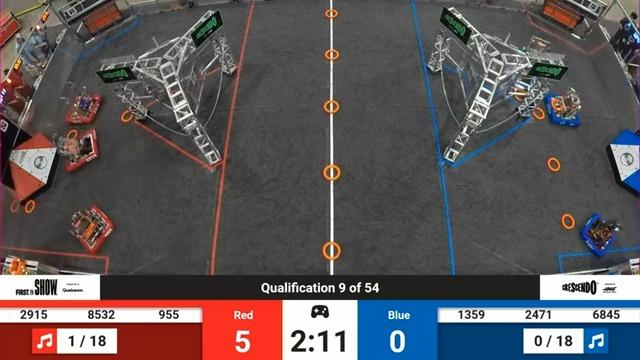robot: (49, 126, 109, 173), (67, 200, 115, 258), (56, 78, 104, 131), (578, 204, 621, 263), (547, 78, 584, 135), (514, 31, 559, 64)
